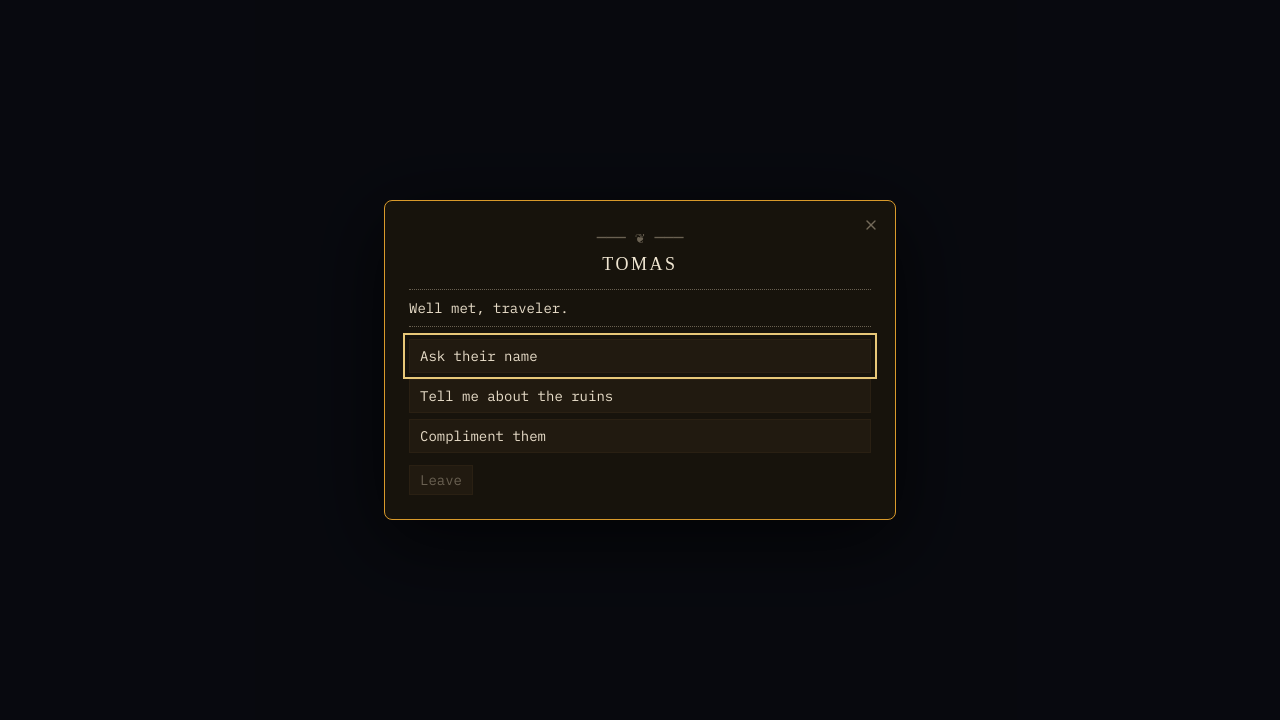
DialogueScreen › a chosen once topic greys out (disappears from the offered list)
Click the button "Compliment them" at (483, 436), box 409,419 -> 871,453
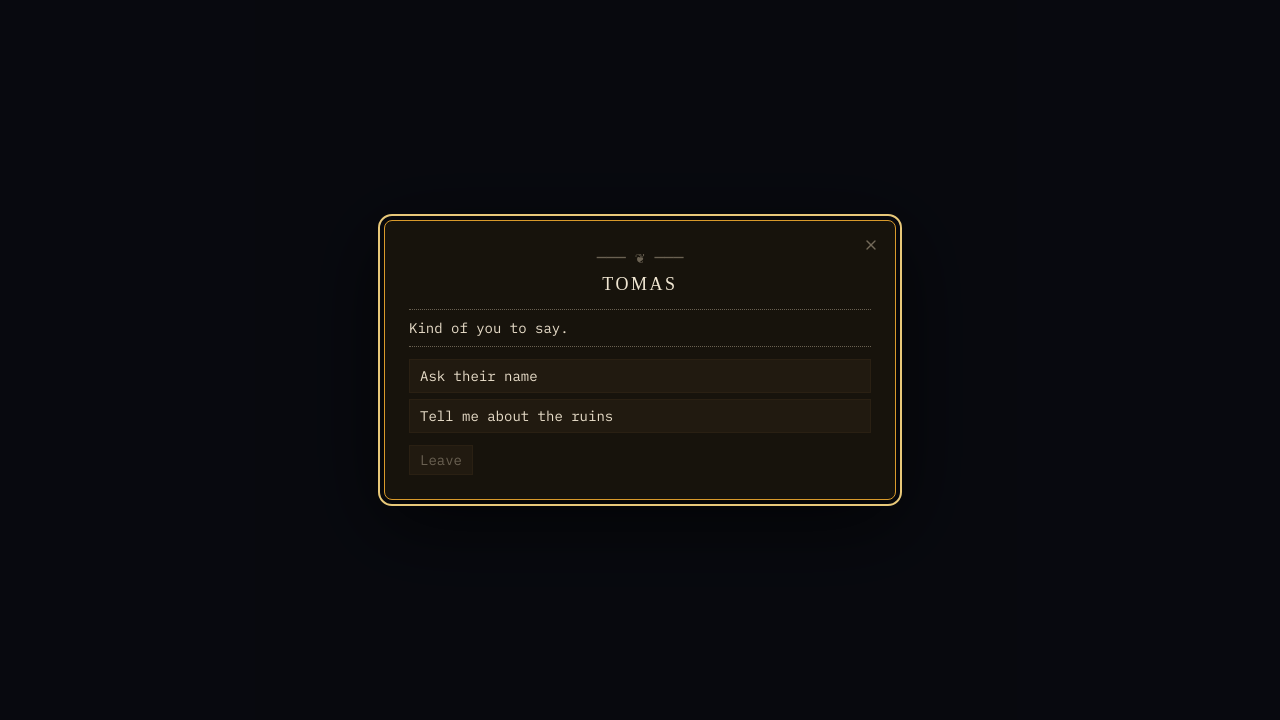
Expected: the button "Compliment them" is gone
